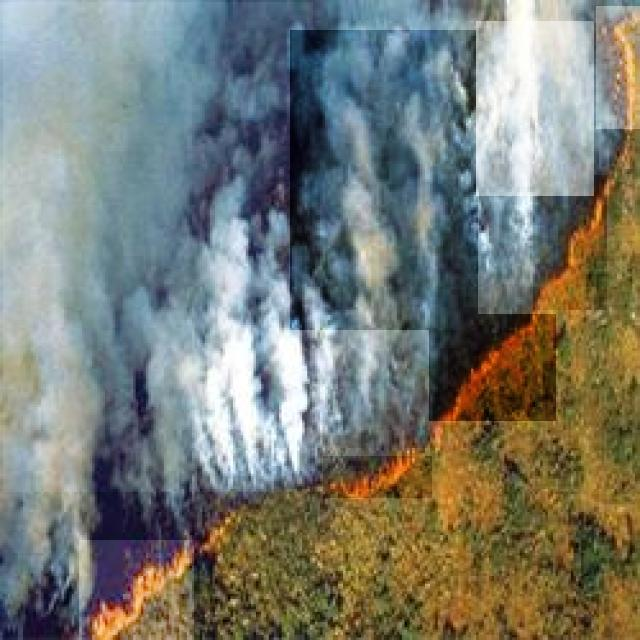Fire: (429, 314, 556, 421), (79, 540, 194, 640), (533, 175, 607, 310), (596, 6, 640, 129), (323, 456, 432, 498)
Smoke: (3, 2, 313, 492), (290, 30, 478, 330), (476, 21, 594, 196)
